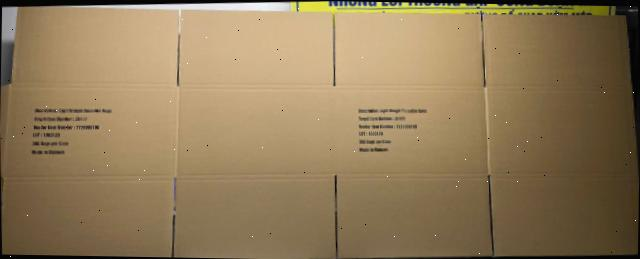box: (0, 5, 639, 258)
